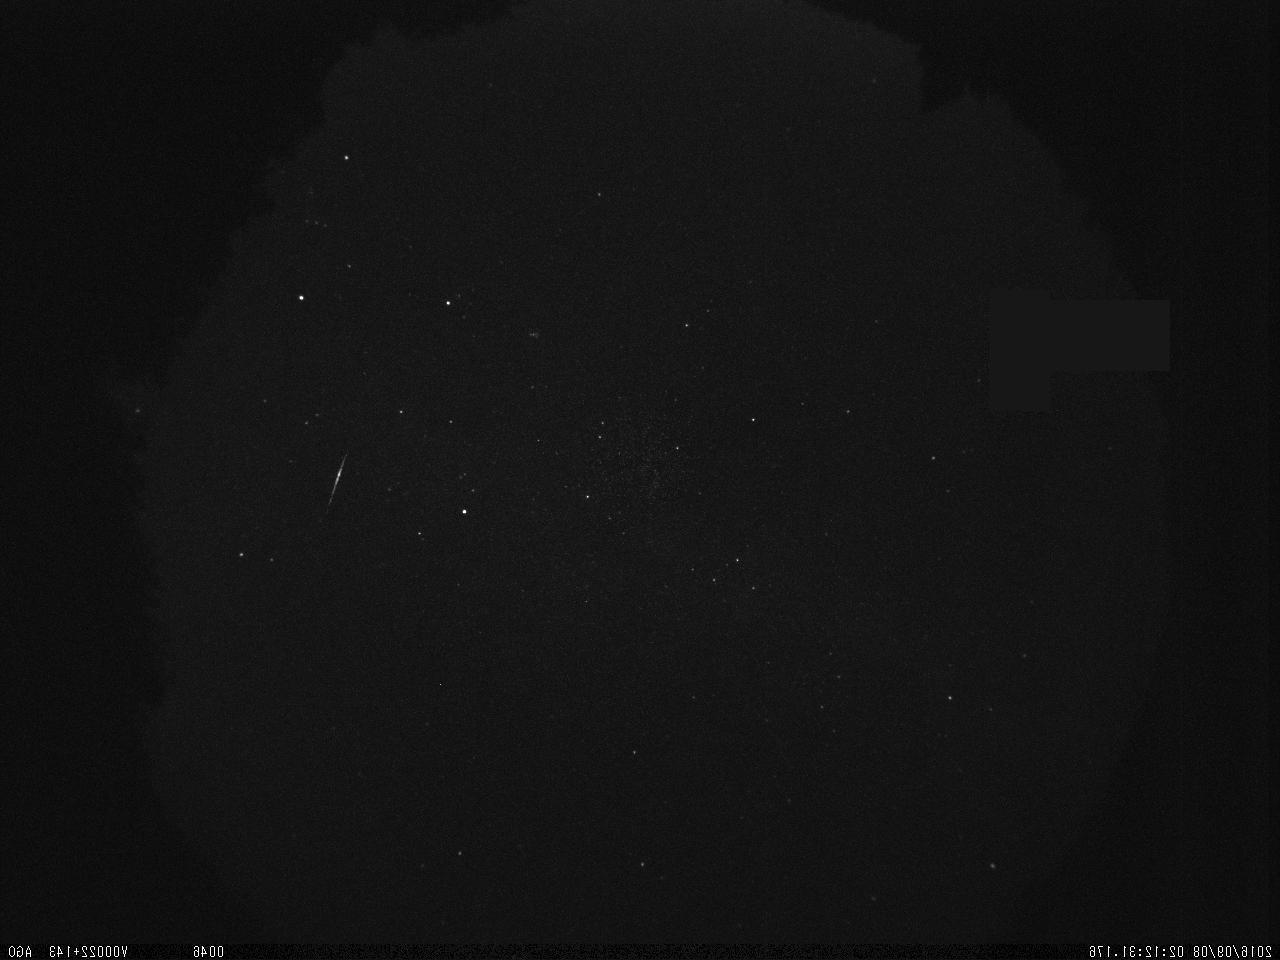meteor: (311, 450, 355, 522)
